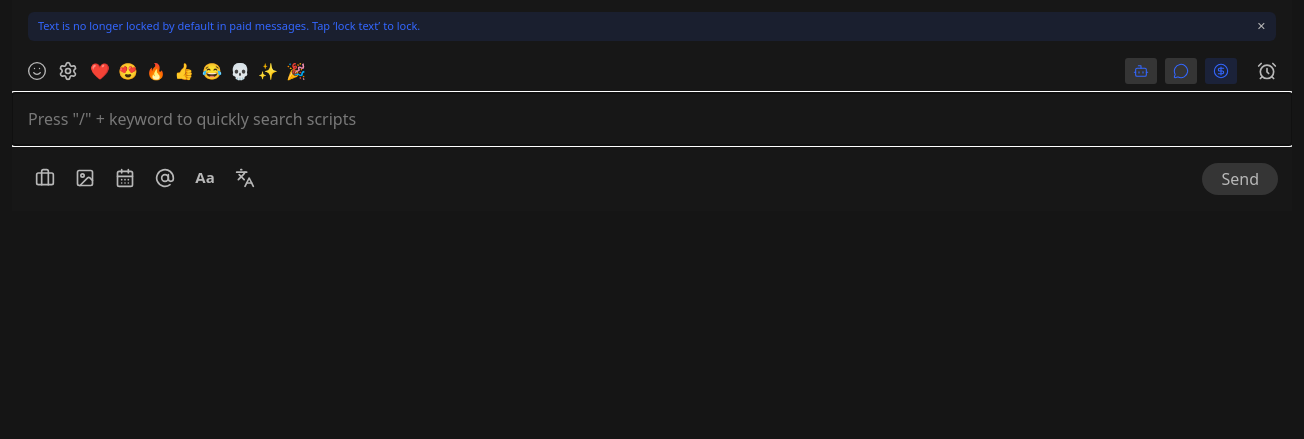
Scenario: Composer toolbar: GIF and tags › "Tag other Creators" stages picks until "Add", which shows the chip and closes the popover
The width and height of the screenshot is (1304, 439).
What coordinates should you click on to do the following:
click the button named "Tag other Creators"
I would click on:
 (165, 178)
Its box is [148,160,182,194].
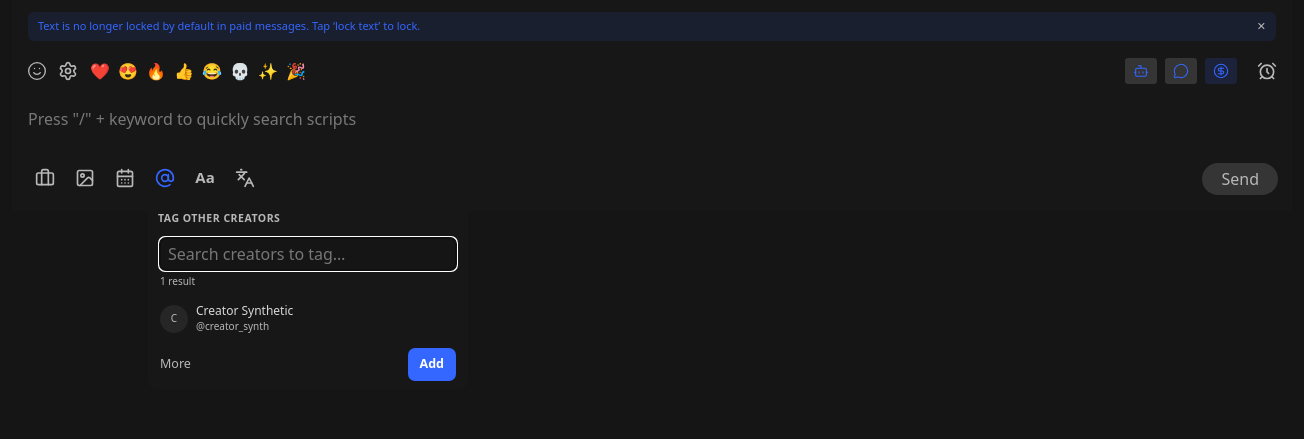
What coordinates should you click on to do the following:
click the button "C Creator Synthetic @creator_synth ✓"
I would click on:
 (245, 311)
Its box is [148,297,468,340].
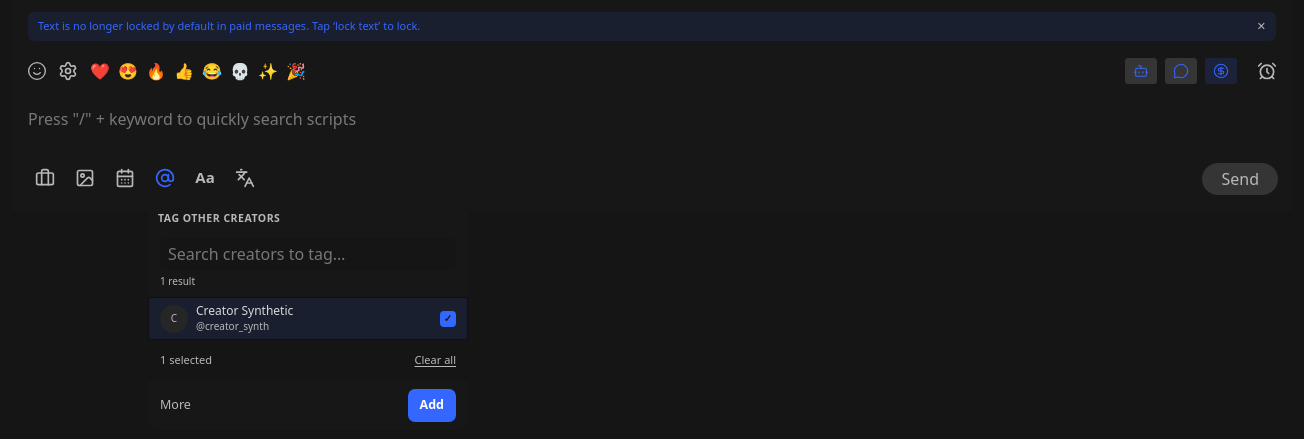
Now the text "Tag other Creators" is shown, box [158,210,280,224]
What coordinates should you click on to do the following:
click the button "Add"
I would click on:
 (432, 405)
Its box is [408,389,456,422].
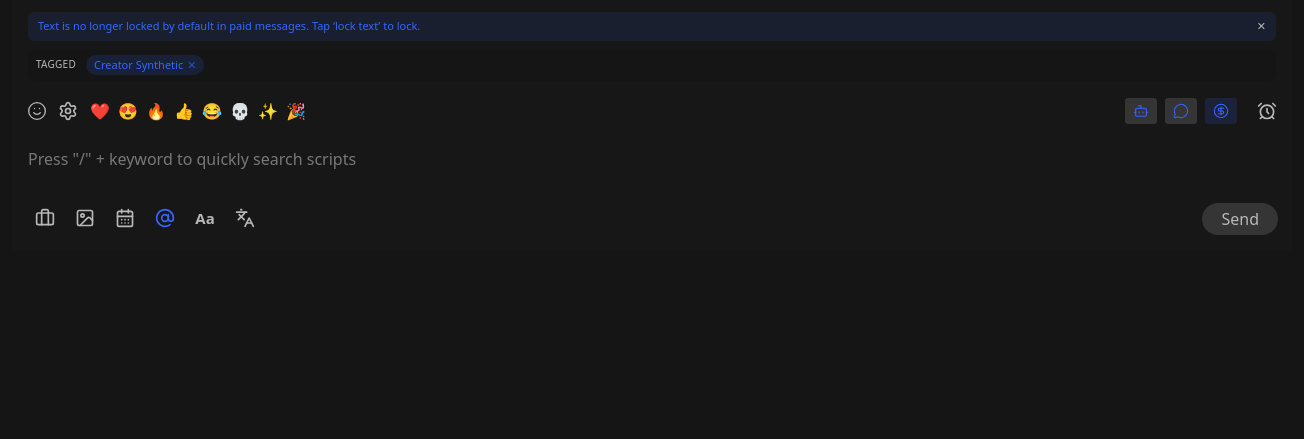
Now the button named "Remove Creator Synthetic" is shown, box [187,56,196,73]
Now the text "Tag other Creators" is gone
